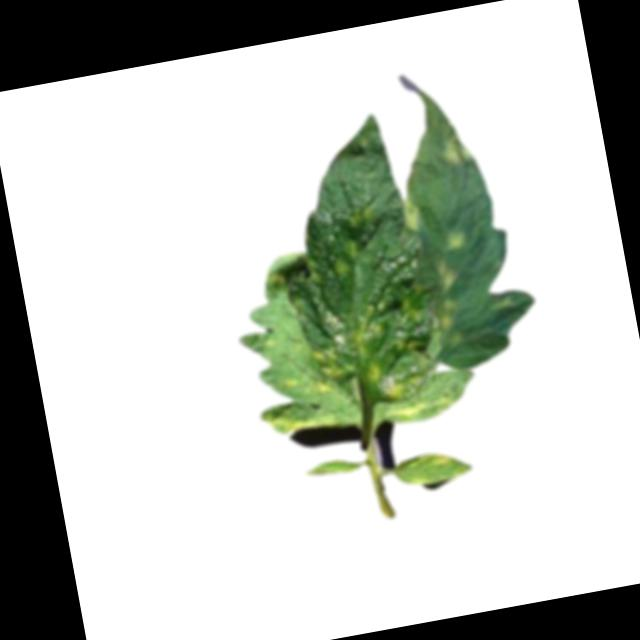Leaf_Mold: (308, 306, 390, 383), (428, 261, 472, 336), (266, 396, 336, 442), (373, 357, 417, 399), (439, 123, 478, 169), (397, 190, 431, 234), (447, 229, 470, 250)
